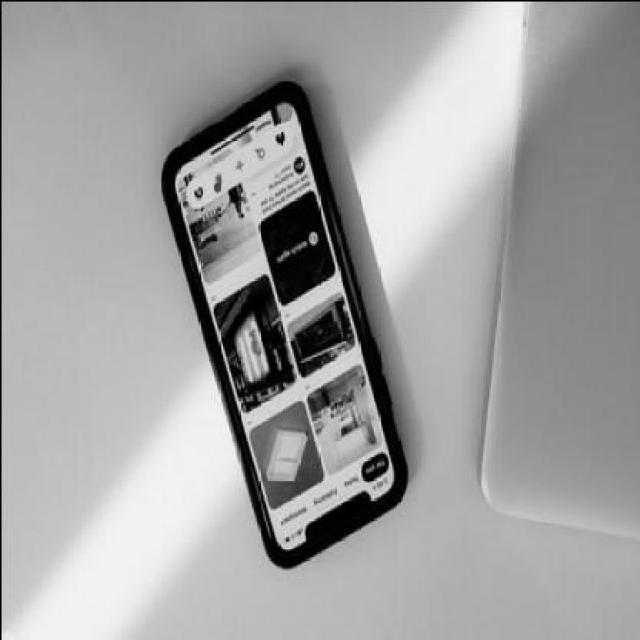fake: (158, 82, 408, 572)
